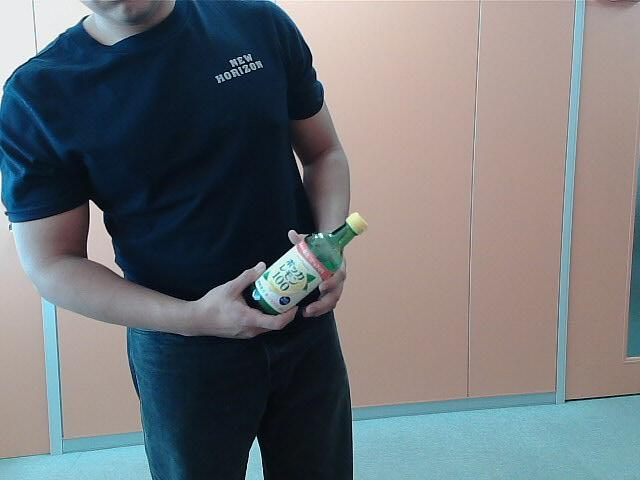Lemon_sapporo: (252, 212, 372, 321)
